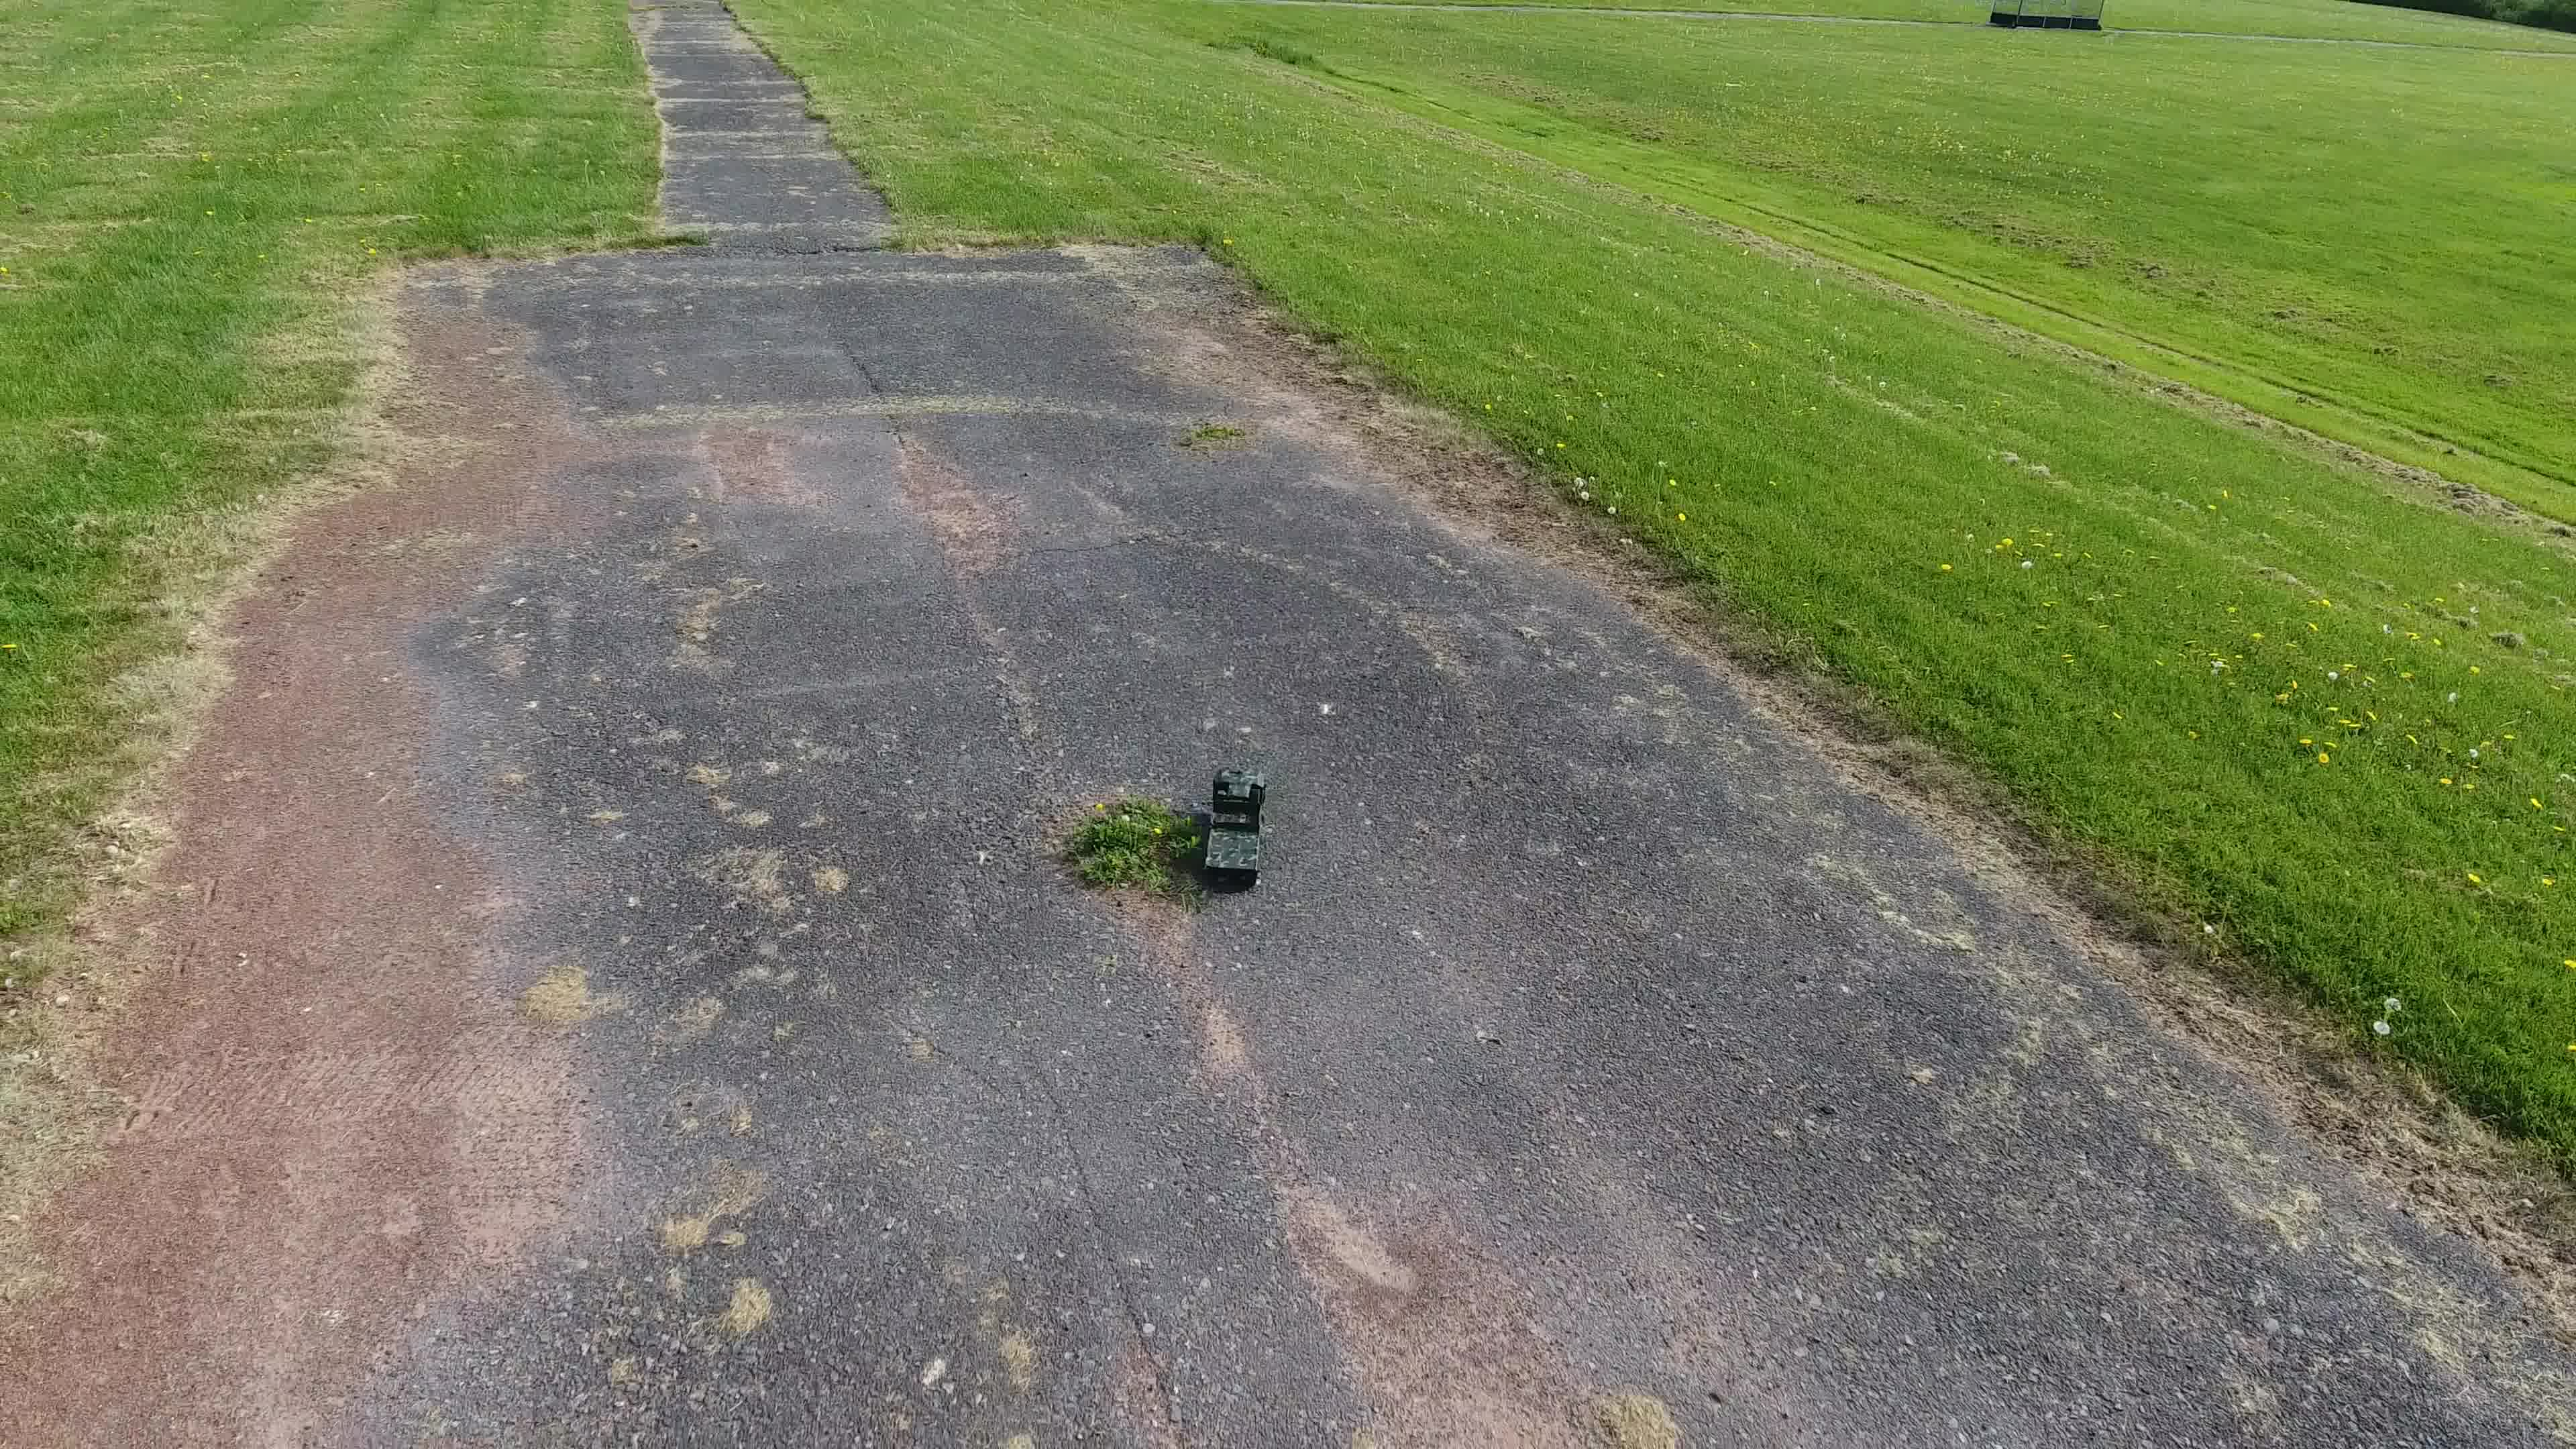transporter9: (1201, 766, 1267, 883)
